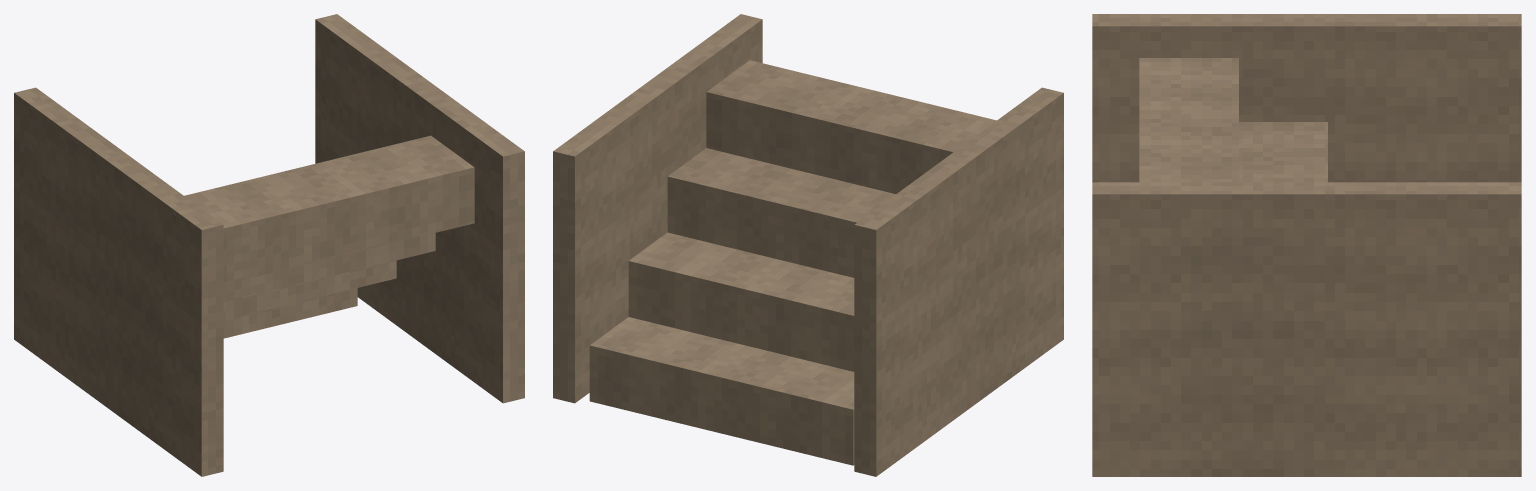
Rendered from level_blockout_domestic_porch_stair.glb.
3 views of the same model, side by side, from view 1: azimuth 30°, elevation 25°; view 2: azimuth 150°, elevation 25°; view 3: azimuth 270°, elevation 25° (orthographic). The views are drawn at different scales.
Visible parts, largest first — view 1: level_blockout_domestic_porch_stair; view 2: level_blockout_domestic_porch_stair; view 3: level_blockout_domestic_porch_stair.
Boxes of the visible parts, x1,y1,x2,y2 form: level_blockout_domestic_porch_stair: [14, 14, 524, 476]; level_blockout_domestic_porch_stair: [553, 14, 1063, 476]; level_blockout_domestic_porch_stair: [1092, 14, 1521, 476].
Size of the model in its own units: 1.63 by 1.2 by 1.64.
Materials: 1 (1 with a texture image).
